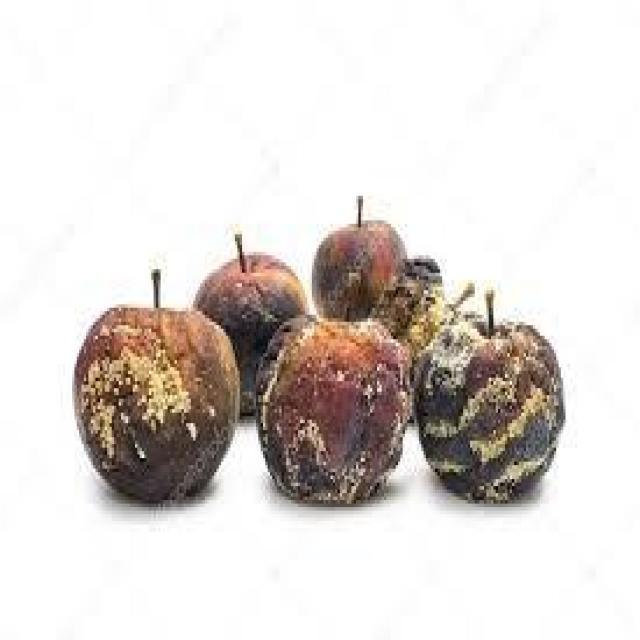Rotten: (75, 300, 237, 500), (430, 317, 557, 505), (265, 323, 397, 502)
